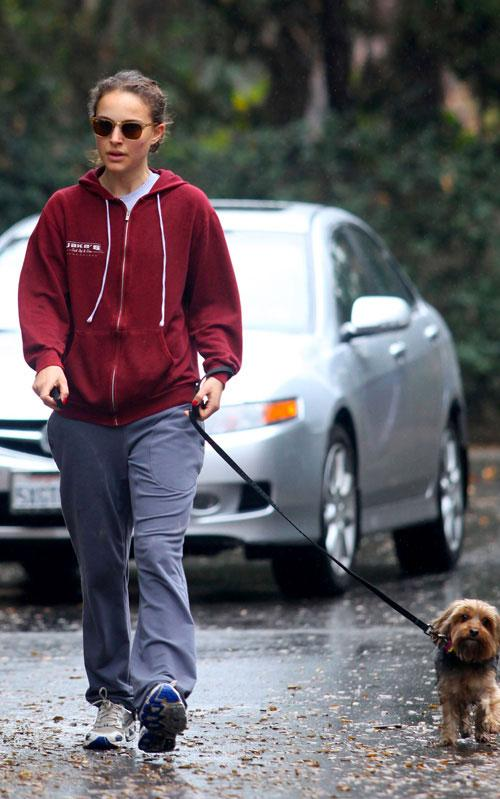person: (18, 67, 244, 761)
